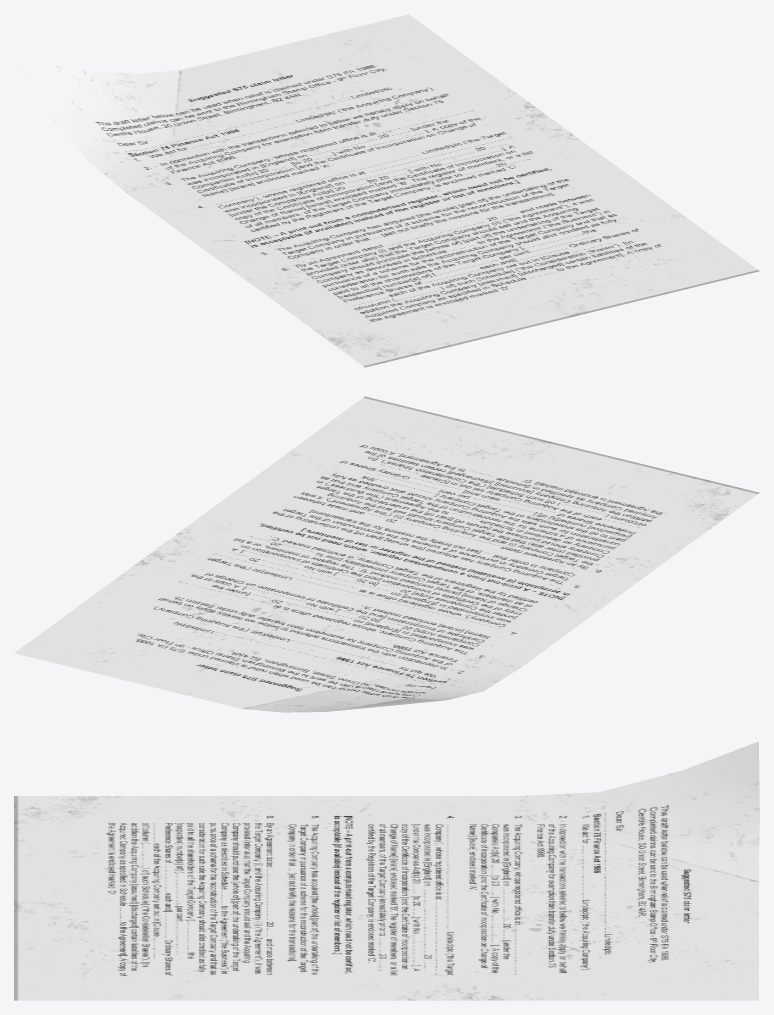
The model's file is paper.fbx.
3 views of the same model, one above another, from view 1: azimuth 30°, elevation 25°; view 2: azimuth 150°, elevation 25°; view 3: azimuth 270°, elevation 25° (orthographic). The views are drawn at different scales.
Parts seen in each view (by area): view 1: _2_3_all_0; view 2: _2_3_all_0; view 3: _2_3_all_0.
Boxes of the visible parts, x1=… form: _2_3_all_0: x1=14, y1=14, x2=759, y2=367; _2_3_all_0: x1=14, y1=396, x2=759, y2=712; _2_3_all_0: x1=14, y1=741, x2=759, y2=1000.
Size of the model in its own units: 774 by 96.02 by 1189.
Materials: 1 (1 with a texture image).
